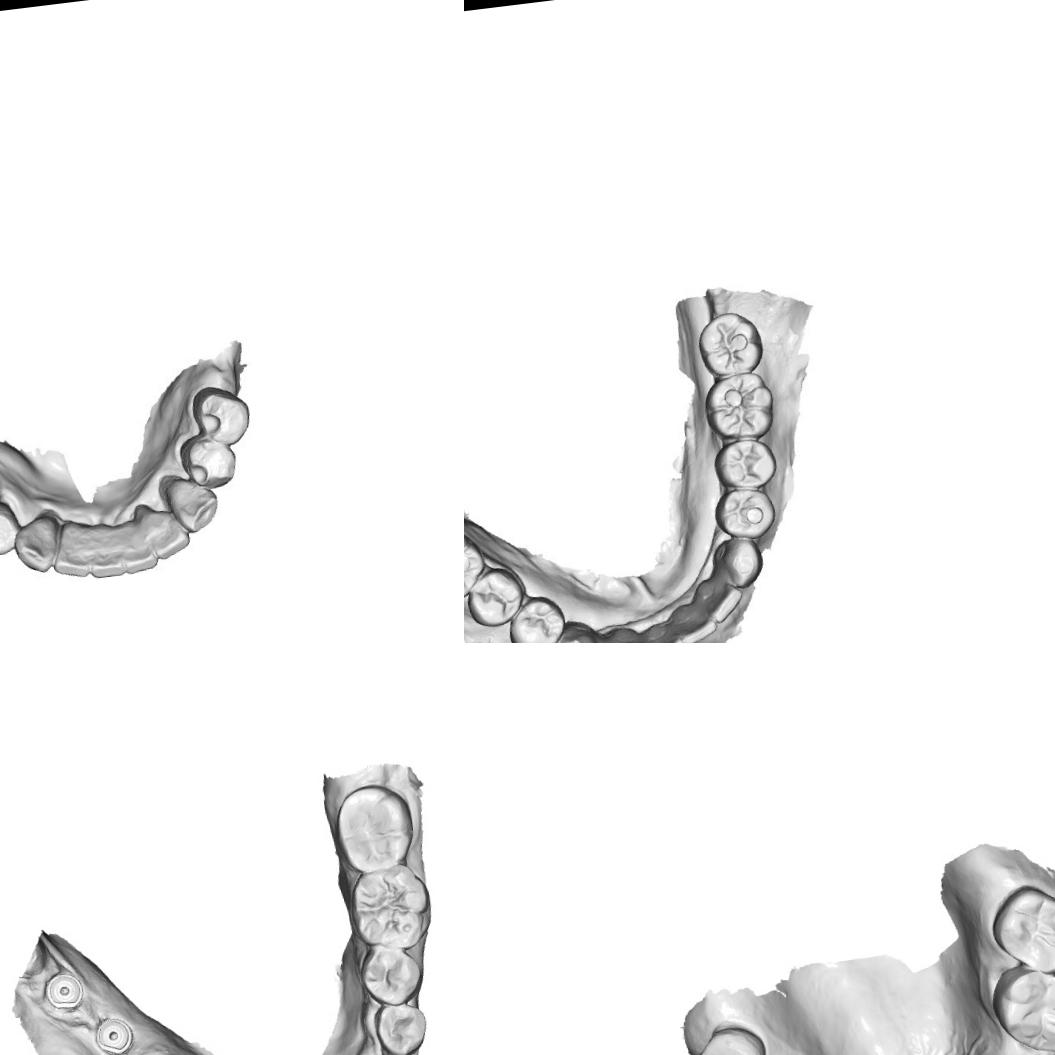canine: (164, 473, 222, 536), (11, 514, 64, 576), (710, 534, 766, 592), (549, 616, 609, 643)
implant: (40, 966, 85, 1013), (91, 1014, 137, 1055)
incisor: (134, 499, 192, 562), (694, 574, 746, 627), (48, 520, 92, 581), (84, 520, 126, 580), (120, 517, 160, 576), (675, 599, 719, 643), (603, 623, 652, 643), (645, 623, 687, 643)
molar: (344, 861, 438, 956), (329, 778, 420, 876), (985, 877, 1055, 980), (986, 958, 1055, 1055), (700, 369, 779, 444), (694, 308, 767, 379), (684, 1023, 772, 1055), (464, 522, 489, 604)
premolar: (352, 944, 427, 1012), (189, 380, 253, 450), (464, 563, 528, 631), (177, 429, 240, 493), (710, 434, 779, 492), (711, 484, 778, 543), (504, 592, 570, 643), (373, 1000, 434, 1055), (0, 498, 23, 559)
